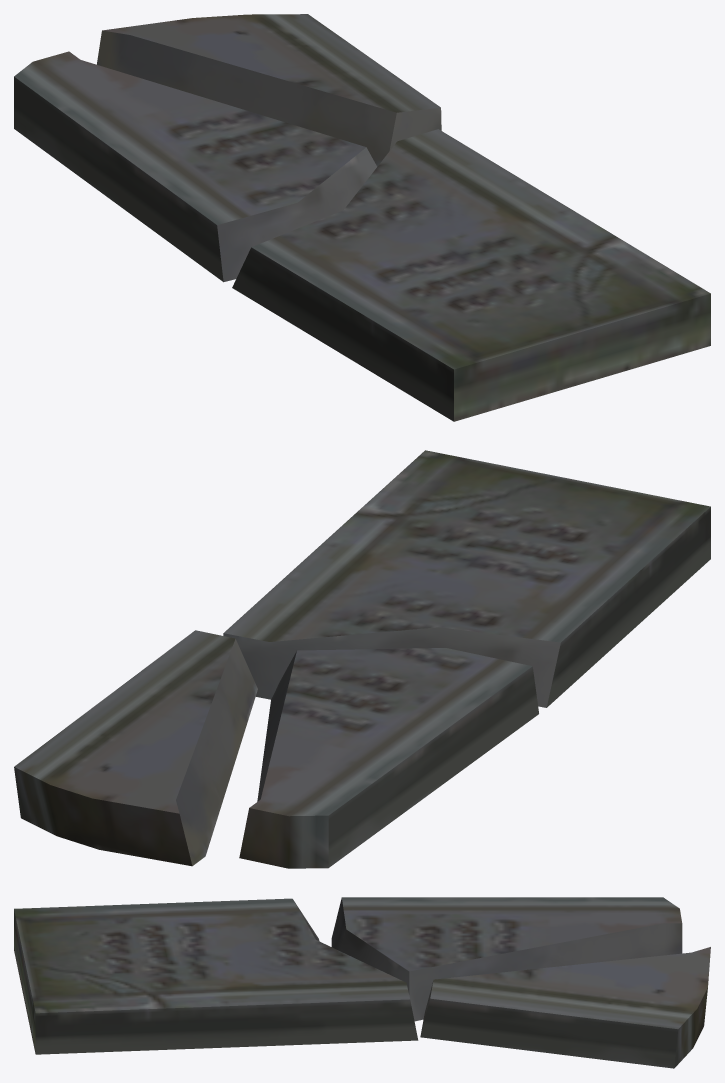
The model's file is KQZD_mubei_2.FBX.
3 views of the same model, one above another, from view 1: azimuth 30°, elevation 25°; view 2: azimuth 150°, elevation 25°; view 3: azimuth 270°, elevation 25° (orthographic). The views are drawn at different scales.
Parts seen in each view (by area): view 1: KQZD_mubei_2; view 2: KQZD_mubei_2; view 3: KQZD_mubei_2.
Boxes of the visible parts, x1,y1,x2,y2 form: KQZD_mubei_2: [14, 14, 710, 421]; KQZD_mubei_2: [14, 450, 710, 868]; KQZD_mubei_2: [14, 897, 710, 1068].
Bounding box in the file's own units: 72.9 × 183 × 18.92.
